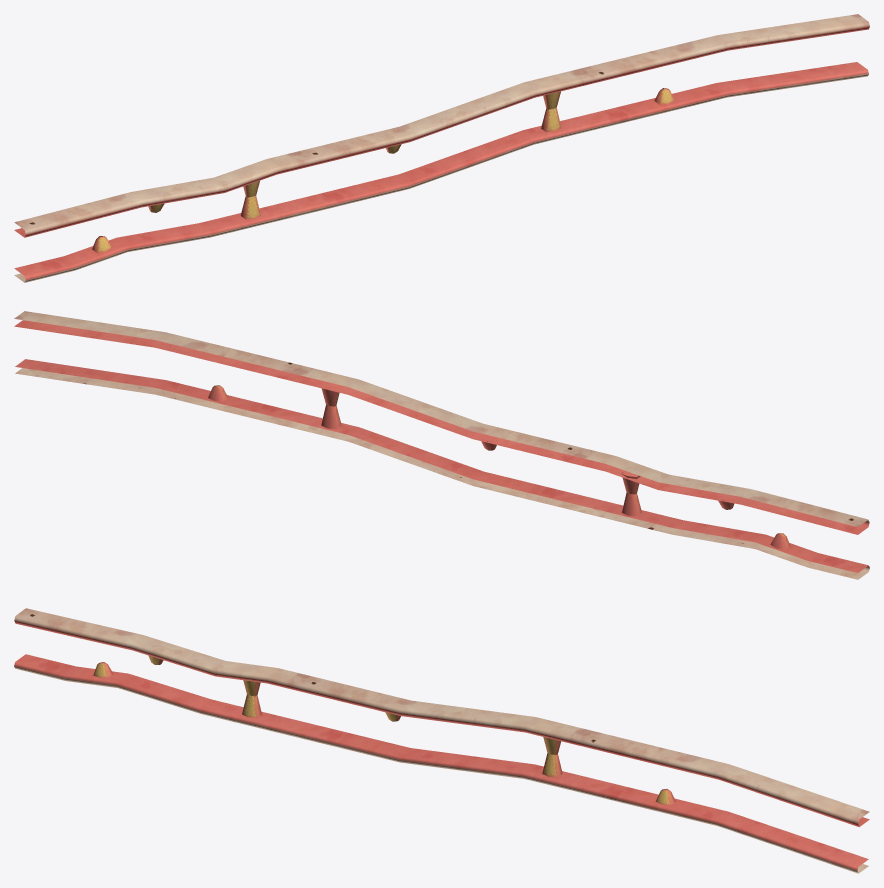
Rendered from Export_Tex_Escenario_001.fbx.
3 renders of one model, top to bottom at view 1: azimuth 30°, elevation 25°; view 2: azimuth 150°, elevation 25°; view 3: azimuth 330°, elevation 25°, orthographic.
Visible parts, largest first — view 1: pCube6, pCube1; view 2: pCube6, pCube1; view 3: pCube6, pCube1.
Boxes of the visible parts, x1,y1,x2,y2 form: pCube6: [14, 14, 869, 237]; pCube1: [14, 62, 868, 282]; pCube6: [14, 311, 869, 534]; pCube1: [15, 359, 869, 579]; pCube6: [14, 608, 869, 827]; pCube1: [14, 654, 868, 873].
Bounding box in the file's own units: 284 × 21.95 × 6.93.
1 material, 1 textured.
